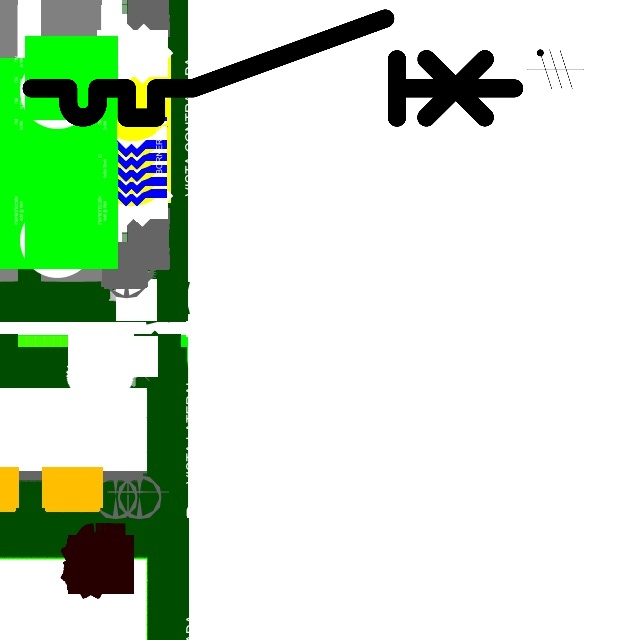interruptor_termomagnetico: (19, 6, 527, 130)
